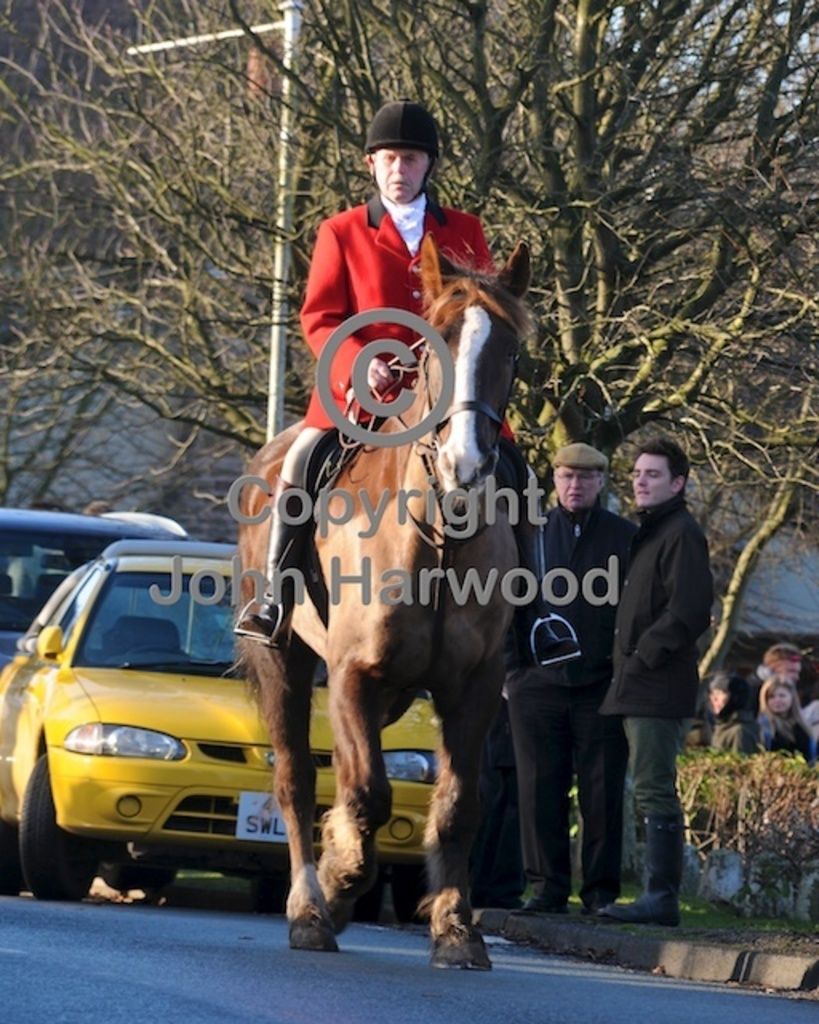Tree: (0, 1, 812, 750)
